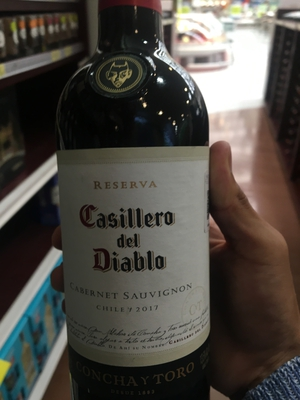casillero del diablo cabernet sauvignon: (54, 10, 216, 400)
